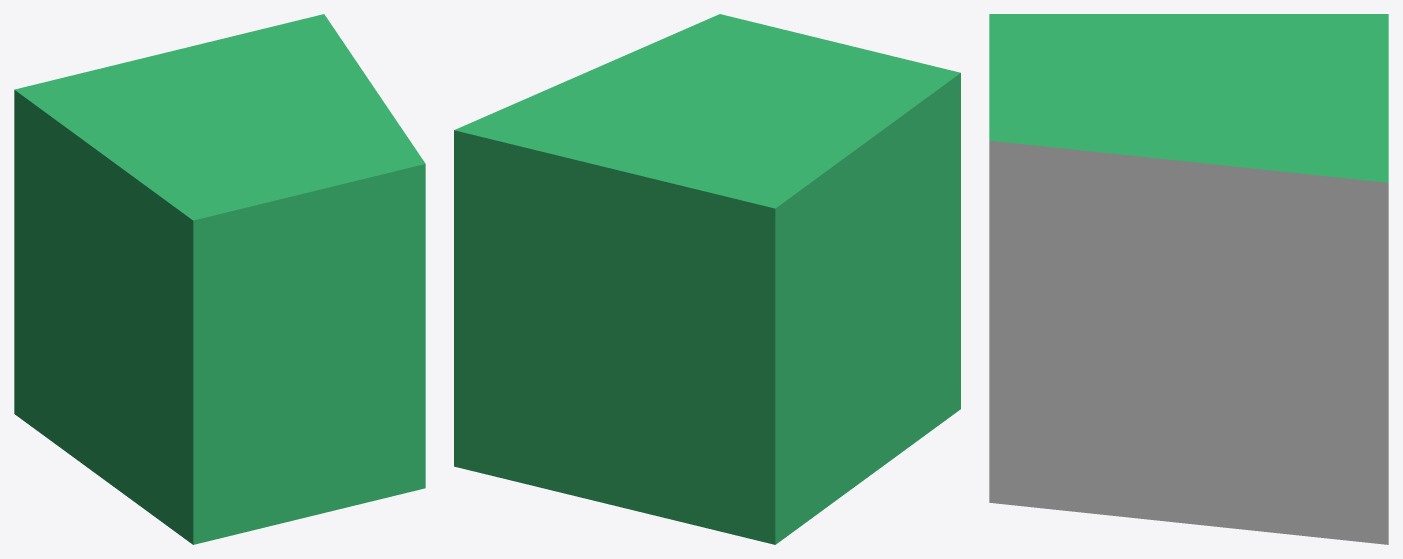
The model's file is r3c4_body_green.gltf.
3 renders of one model, left to right at view 1: azimuth 30°, elevation 25°; view 2: azimuth 150°, elevation 25°; view 3: azimuth 270°, elevation 25°, orthographic. The views are drawn at different scales.
Visible parts, largest first — view 1: r3c4_body_green; view 2: r3c4_body_green; view 3: r3c4_body_green.
Part boxes in pixels (left/top/right/bottom): r3c4_body_green: left=14, top=14, right=425, bottom=544; r3c4_body_green: left=454, top=14, right=960, bottom=544; r3c4_body_green: left=989, top=14, right=1388, bottom=544.
Size of what is drawn, in the model's own units: 2 by 2 by 2.
Materials: 1 (1 with a texture image).
